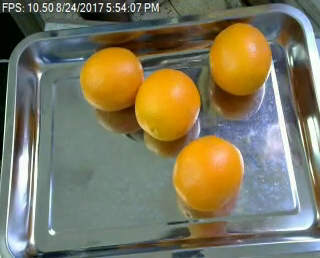Orange: (171, 135, 245, 212), (134, 67, 201, 141), (209, 21, 272, 95), (79, 46, 145, 112)
